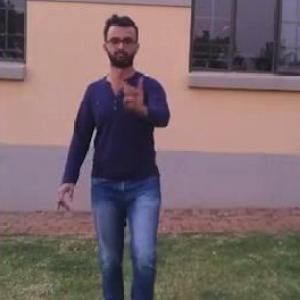takeoff-hand: (112, 67, 152, 122)
